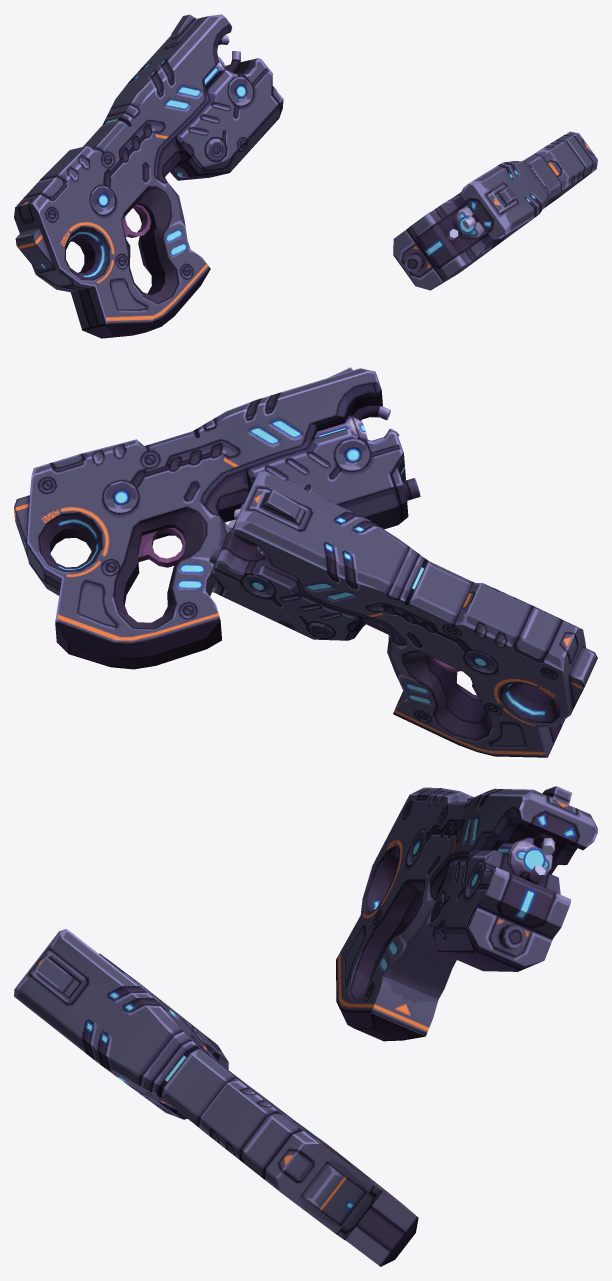
Rendered from Weapon_Pistol_K6_11_4.fbx.
3 renders of one model, top to bottom at view 1: azimuth 30°, elevation 25°; view 2: azimuth 150°, elevation 25°; view 3: azimuth 270°, elevation 25°, orthographic. The views are drawn at different scales.
Parts seen in each view (by area): view 1: RightPistol, LeftPistol; view 2: LeftPistol, RightPistol; view 3: RightPistol, LeftPistol.
Boxes of the visible parts, bbox=[...] form: RightPistol: bbox=[14, 14, 283, 338]; LeftPistol: bbox=[393, 131, 597, 290]; LeftPistol: bbox=[14, 367, 420, 669]; RightPistol: bbox=[209, 471, 597, 757]; RightPistol: bbox=[336, 786, 597, 1041]; LeftPistol: bbox=[14, 929, 418, 1266].
Bounding box in the file's own units: 0.4383 × 0.2004 × 0.3145.
1 material, 1 textured.
